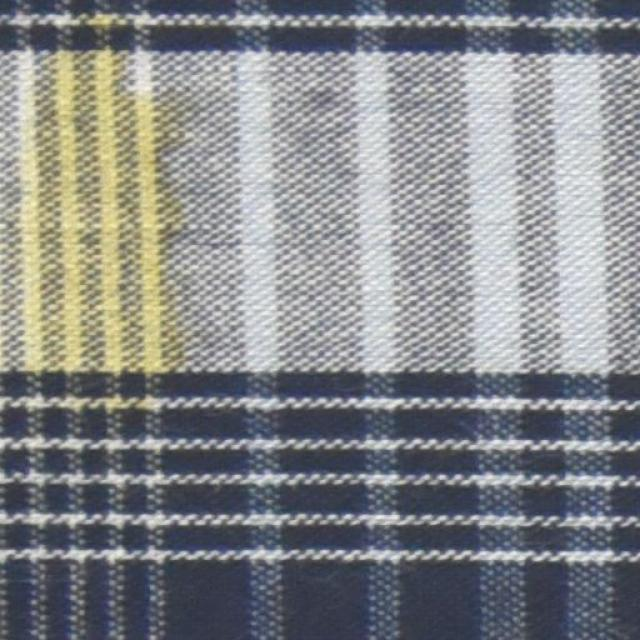Stain: (0, 7, 209, 417)
